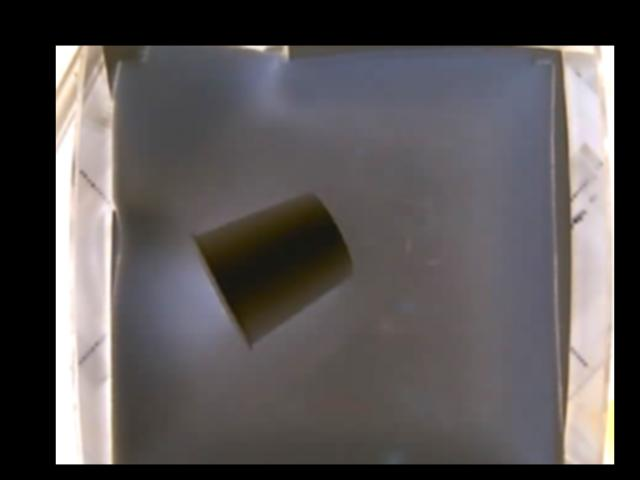Cup: (186, 193, 355, 353)
